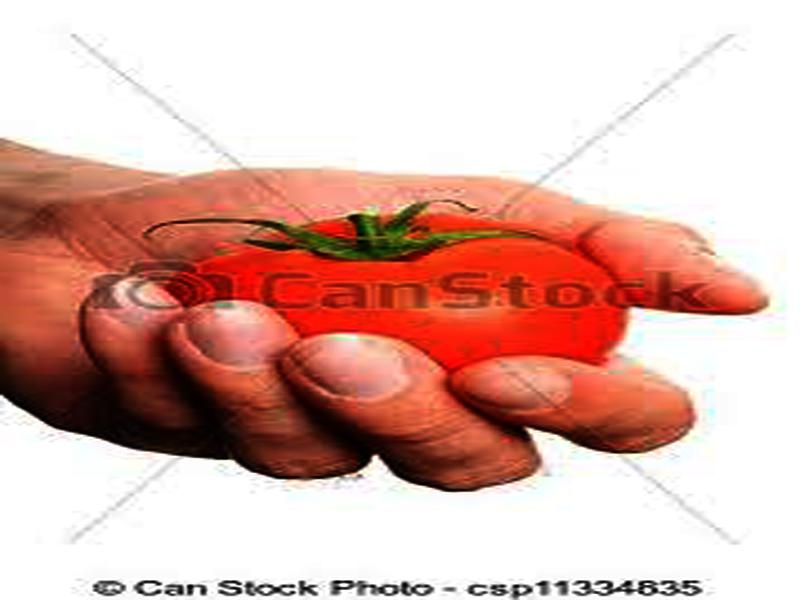Tomato: (170, 217, 626, 368)
